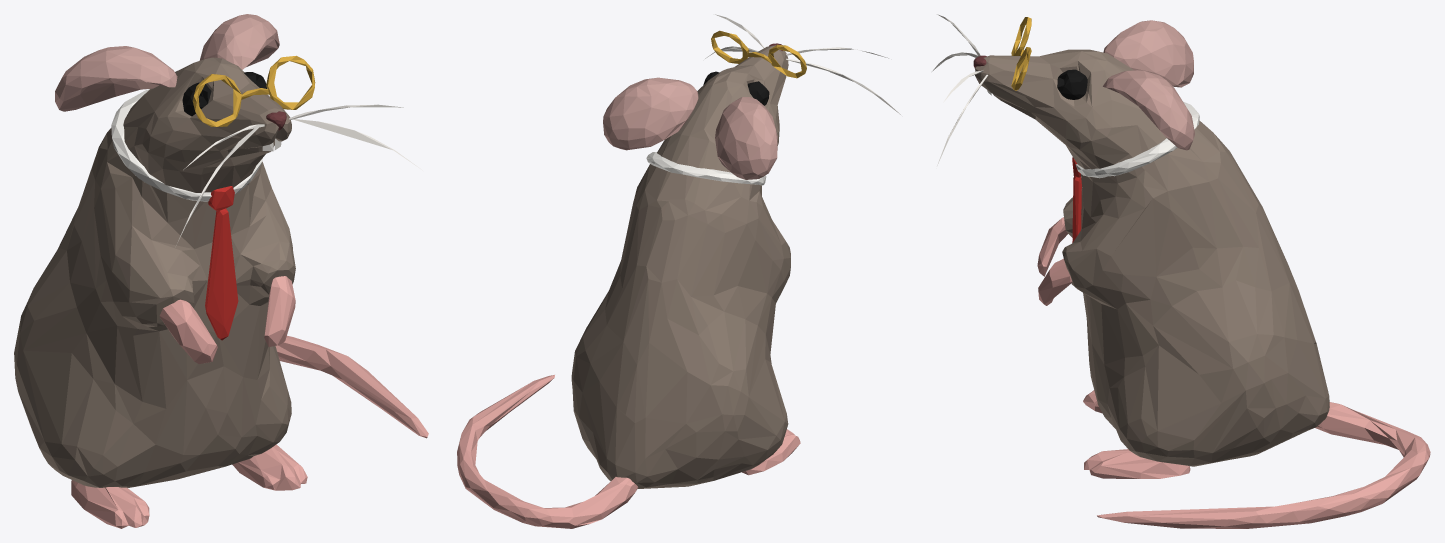
The model's file is rat.glb.
3 renders of one model, left to right at view 1: azimuth 30°, elevation 25°; view 2: azimuth 150°, elevation 25°; view 3: azimuth 270°, elevation 25°, orthographic. The views are drawn at different scales.
Parts seen in each view (by area): view 1: rat; view 2: rat; view 3: rat.
Boxes of the visible parts, x1,y1,x2,y2 form: rat: [14, 14, 428, 528]; rat: [457, 14, 900, 528]; rat: [932, 14, 1430, 528].
Bounding box in the file's own units: 4.74 × 5.84 × 6.48.
